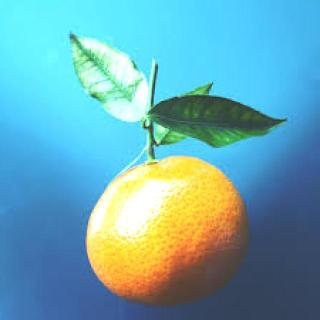orange: (75, 145, 262, 320)
